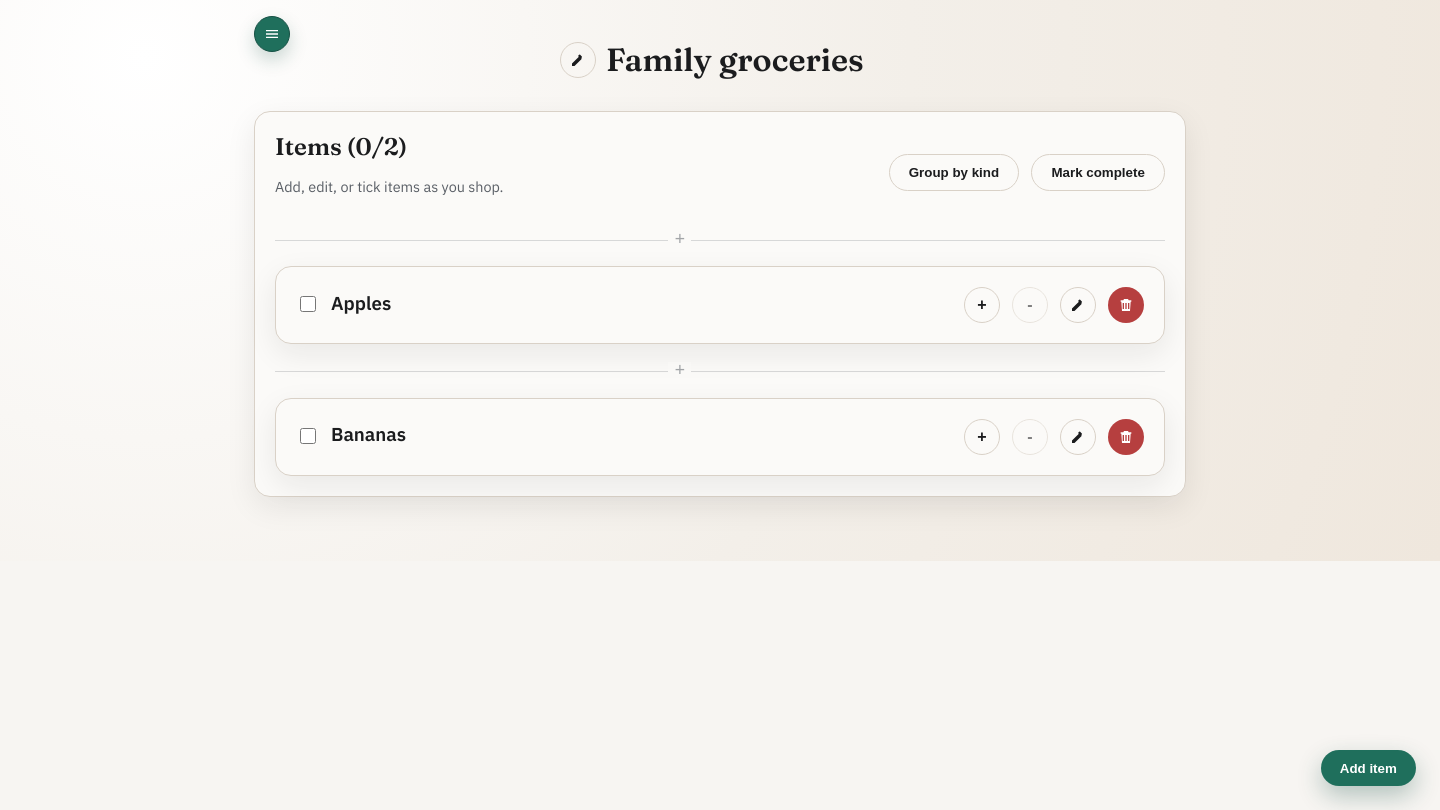
Test: ListDetail route › inserts an item at the top gap, before the first item
Click the button named "Insert here, before Apples".
click(680, 240)  # box left=275, top=218, right=1165, bottom=262
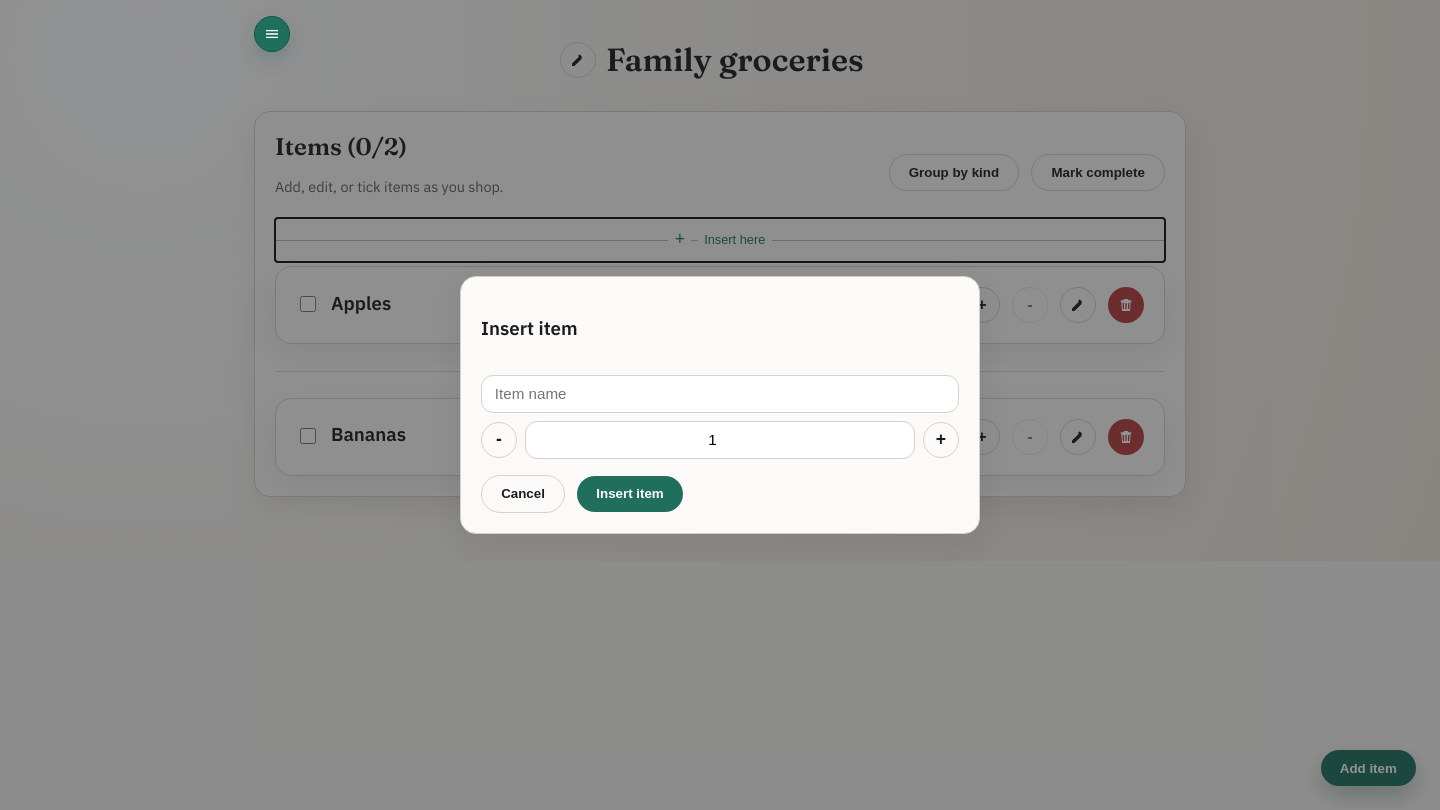
expect the heading "Insert item" is shown: met, box left=481, top=316, right=578, bottom=340
Type "Top of list" into the field with placeholder "Item name".
click(720, 394); type("Top of list")  # box left=481, top=375, right=959, bottom=413
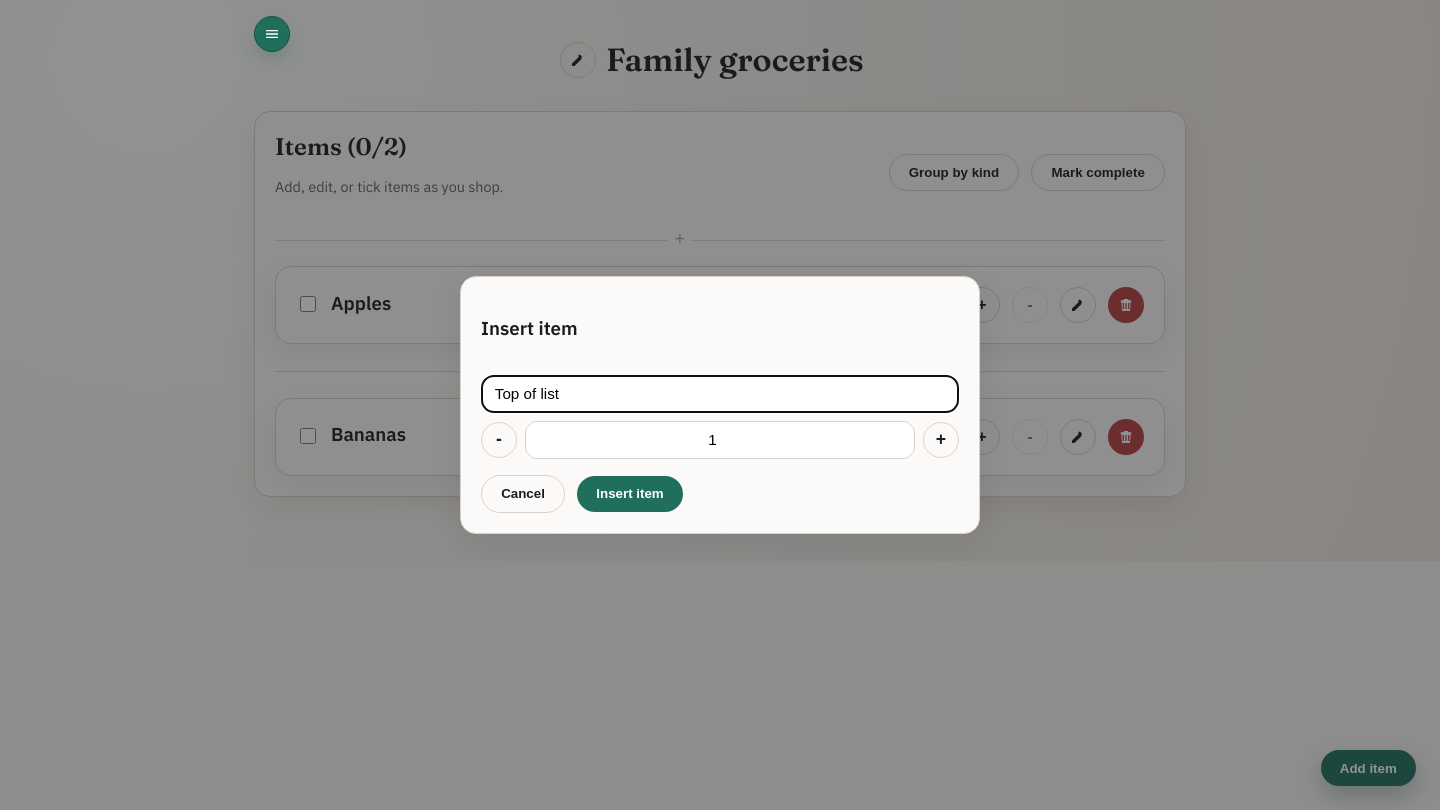
Click the button "Insert item".
click(630, 494)  # box left=577, top=476, right=683, bottom=512
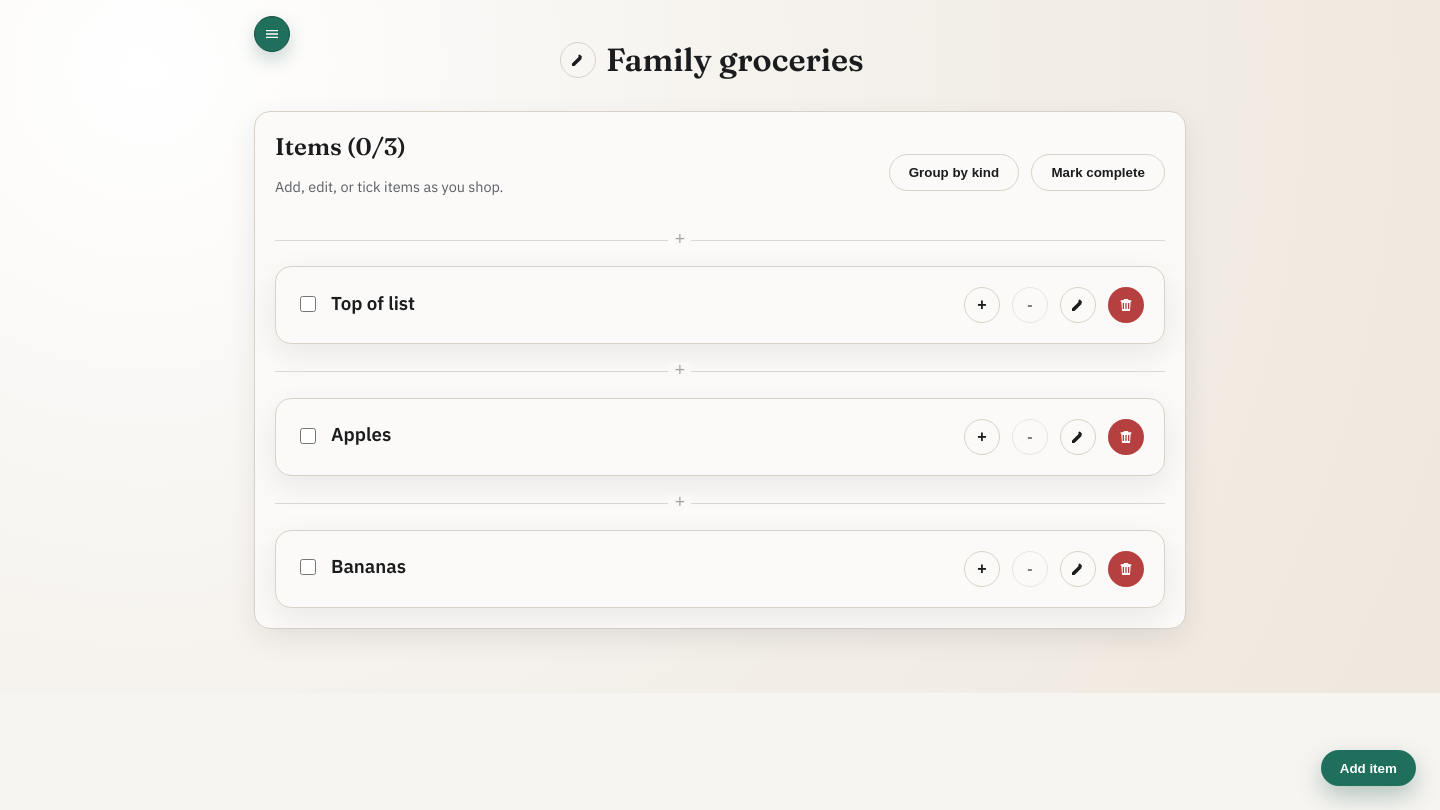
expect the headings read "Top of list", "Apples", "Bananas", in this order: met, box left=331, top=291, right=415, bottom=315; left=331, top=422, right=391, bottom=446; left=331, top=554, right=406, bottom=578
